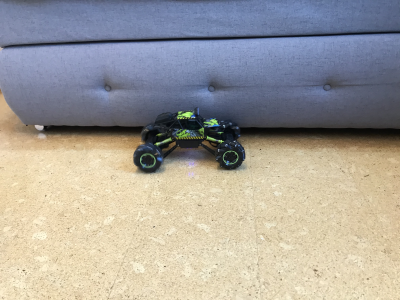remote control car: (130, 105, 248, 175)
